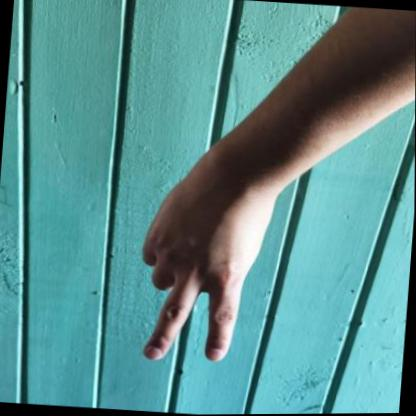N: (100, 152, 313, 389)
